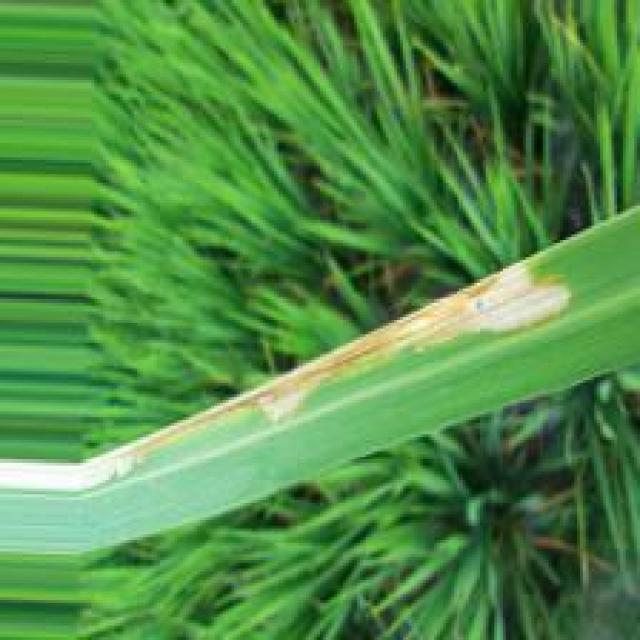Bacterial_Leaf_Blight: (1, 261, 570, 492)
